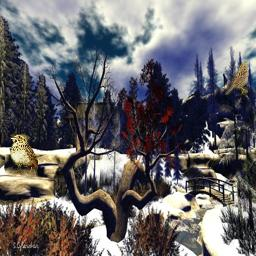Sparrow: (10, 134, 38, 174), (225, 61, 248, 95)
